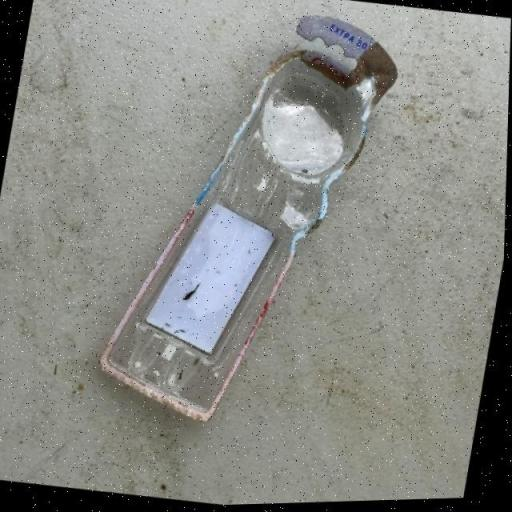plastic: (92, 0, 398, 443)
